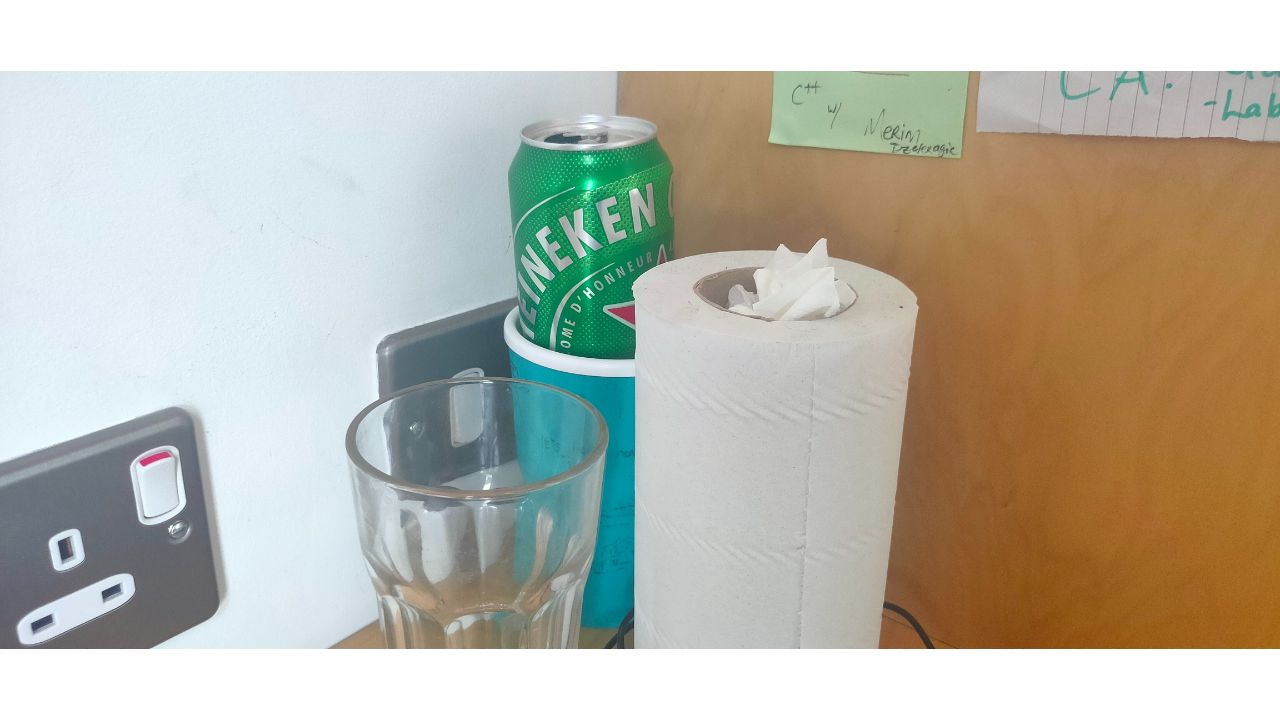Can: (507, 112, 681, 358)
